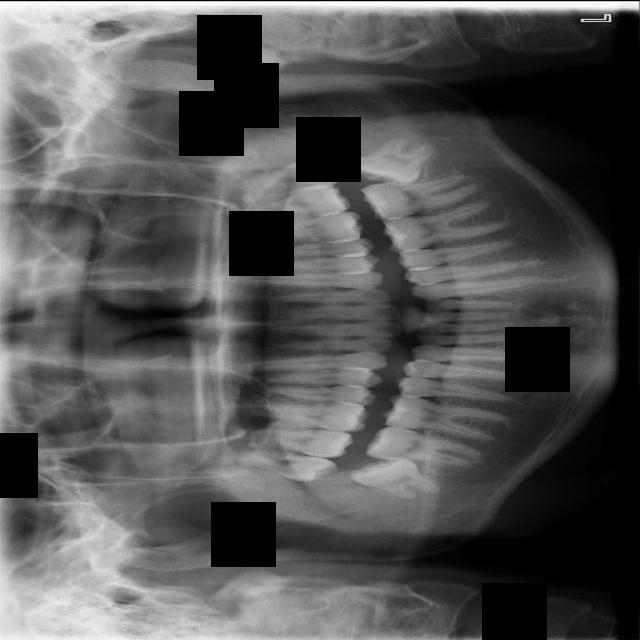3M ESPE Implant: (231, 445, 339, 485)
73: (530, 52, 548, 55)
BioHorizons Implant: (223, 182, 352, 220)
BioLife Implant: (226, 156, 342, 195)
Biomet 3i Implant: (347, 129, 436, 191)
Blue Sky Bio Implant: (359, 171, 481, 222)
Caries: (234, 423, 354, 459)
Implant: (365, 422, 483, 468)
Keystone Dental Implant: (347, 441, 445, 508)
